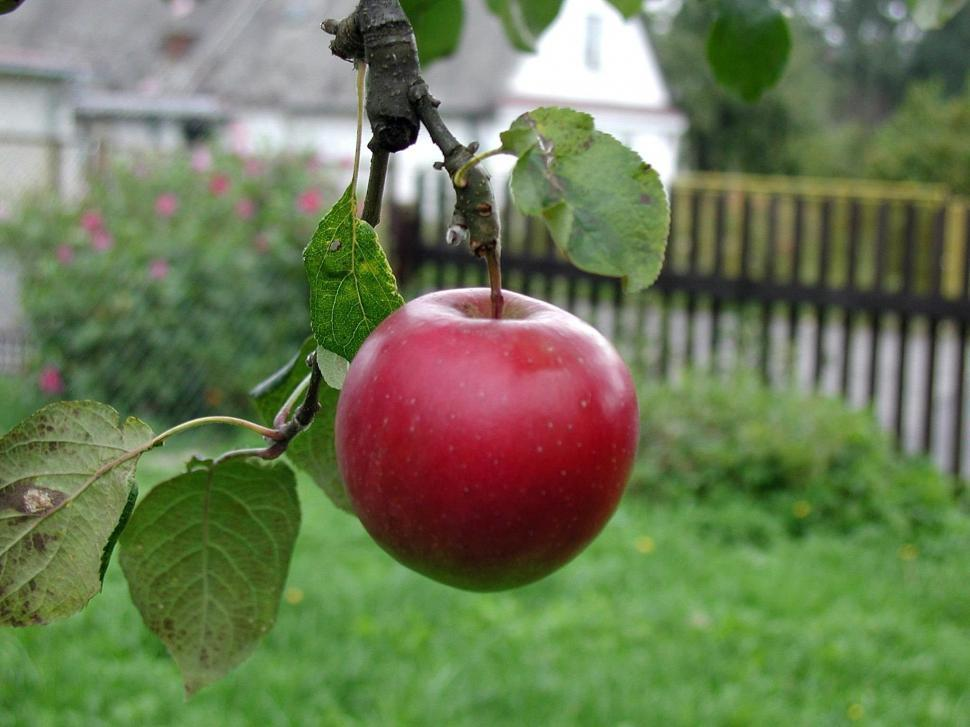apple/: (326, 265, 649, 620)
